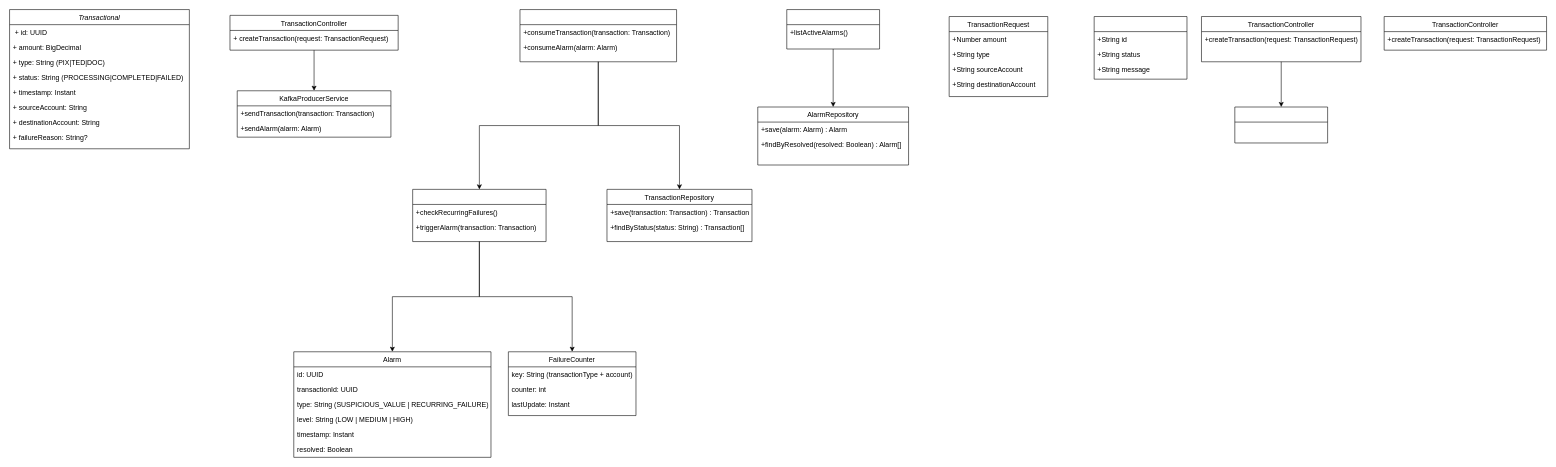
The diagram is 1556 pixels wide and 467 high, and some of its shapes have lost their labels. Here are the shapes that lost their labels. From the top down, the box of each, then its label:
(519, 9, 677, 62): KafkaConsumerService
(786, 9, 880, 49): AlarmController
(1094, 16, 1187, 79): TransactionResponse
(1234, 106, 1328, 143): UntitledClass
(412, 189, 546, 242): MonitorService
